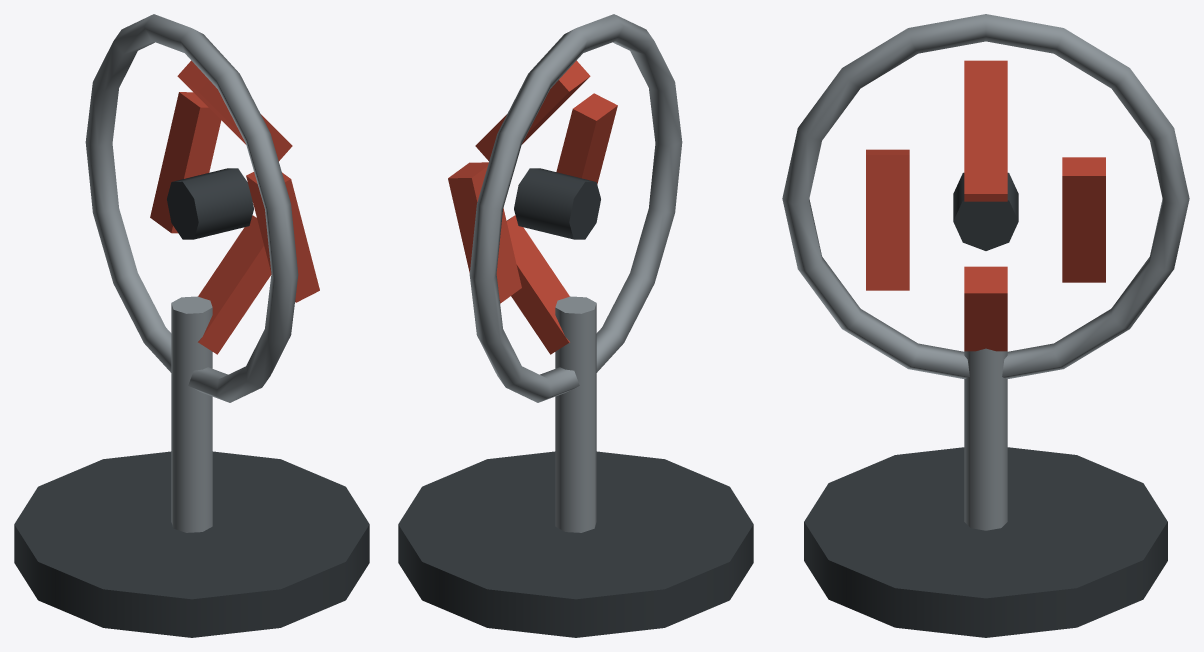
File: table_fan.glb
The picture shows the model from 3 angles, left to right: view 1: azimuth 30°, elevation 25°; view 2: azimuth 150°, elevation 25°; view 3: azimuth 270°, elevation 25°; orthographic projection. The views are drawn at different scales.
Visible parts, largest first — view 1: table_fan; view 2: table_fan; view 3: table_fan.
Part boxes in pixels (x1=…): table_fan: x1=14, y1=14, x2=369, y2=637; table_fan: x1=398, y1=14, x2=753, y2=637; table_fan: x1=782, y1=14, x2=1189, y2=637.
Bounding box in the file's own units: 0.1 × 0.166 × 0.112.
